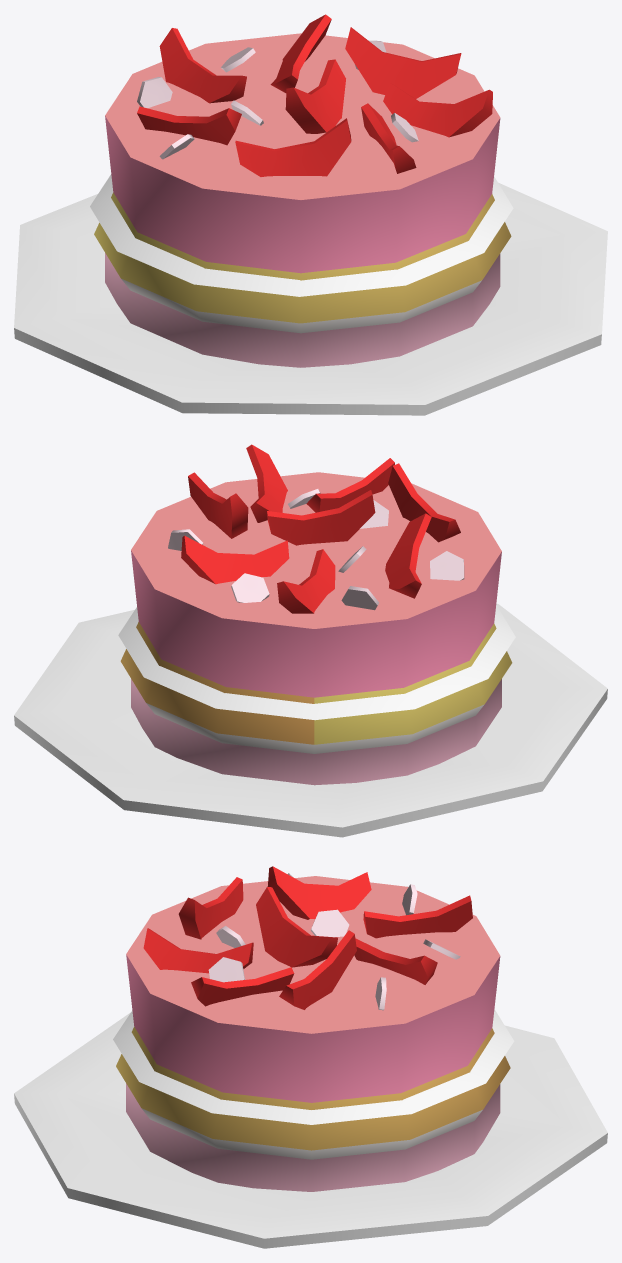
Rendered from shop_065.glb.
The picture shows the model from 3 angles, top to bottom: view 1: azimuth 30°, elevation 25°; view 2: azimuth 150°, elevation 25°; view 3: azimuth 270°, elevation 25°; orthographic projection. The views are drawn at different scales.
Visible parts, largest first — view 1: shop_065; view 2: shop_065; view 3: shop_065.
Part boxes in pixels (x1,y1,x2,y2): shop_065: (14,14,607,415); shop_065: (14,444,607,837); shop_065: (14,866,607,1248).
Bounding box in the file's own units: 0.2527 × 0.1119 × 0.2524.
Materials: 1 (1 with a texture image).
